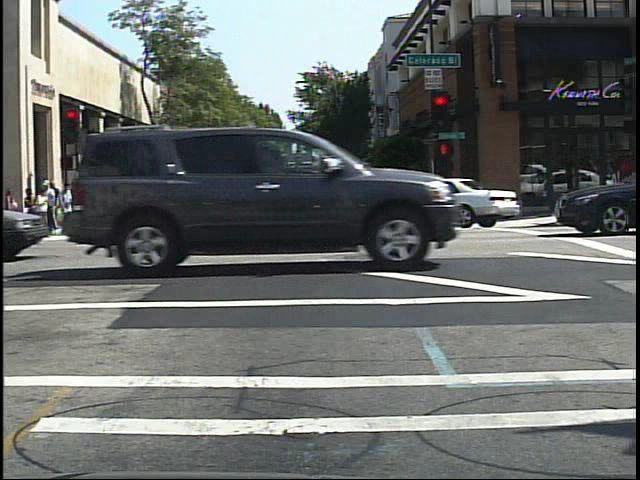person: (106, 180, 126, 226)
